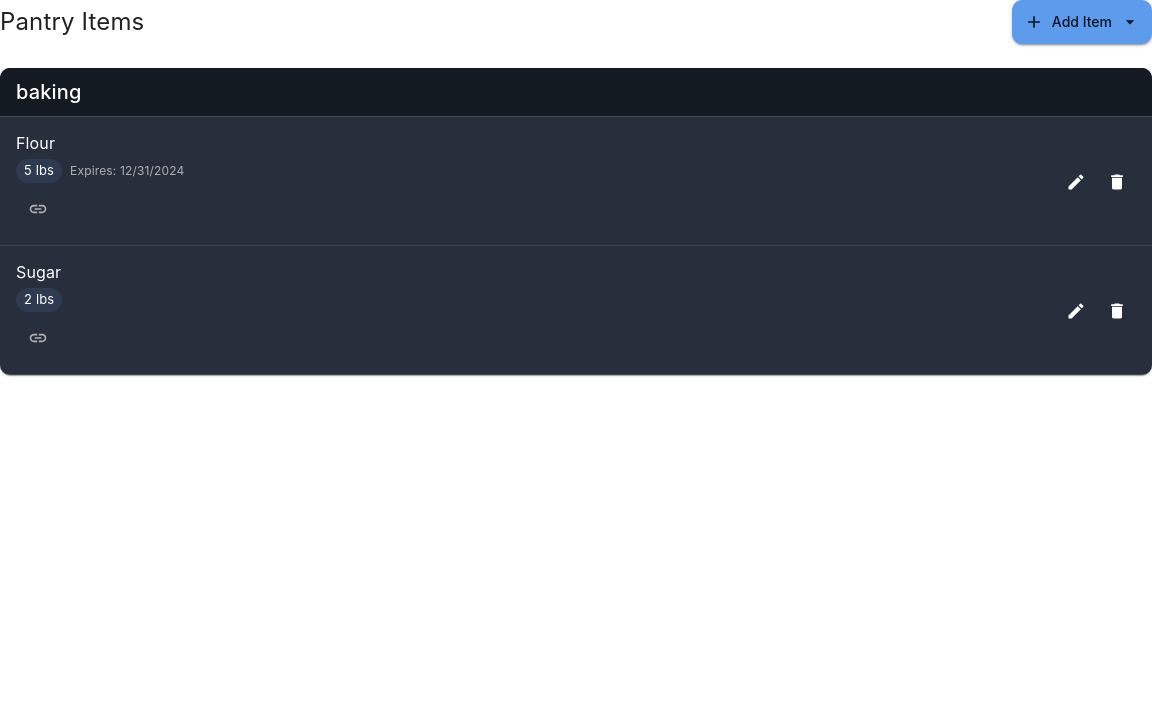
Test: PantryManager Component › Add Item Dialog › should close dialog when cancel is clicked
Note: Open dialog
Click the button "Add Item". click: x=1082, y=22
box: [1012,0,1151,44]
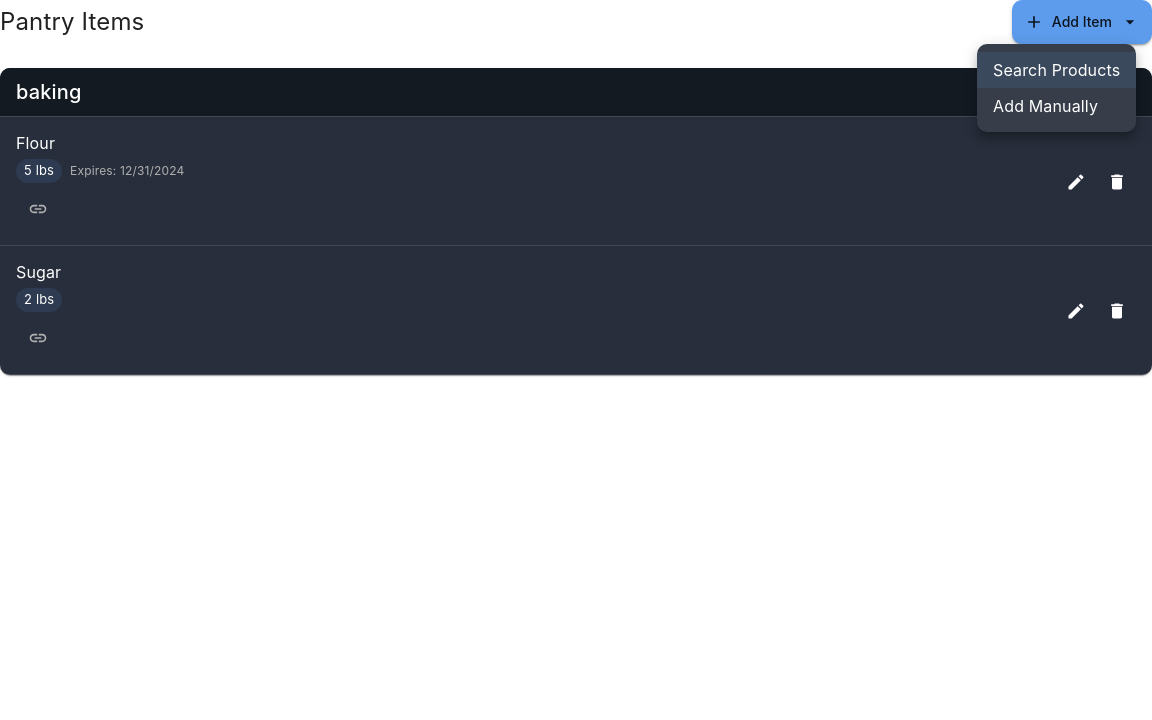
Note: Click "Add Manually" menu item
Click the menu item with test id "pantry-add-manual-menu-item". click: x=1046, y=106
box: [993,96,1098,116]
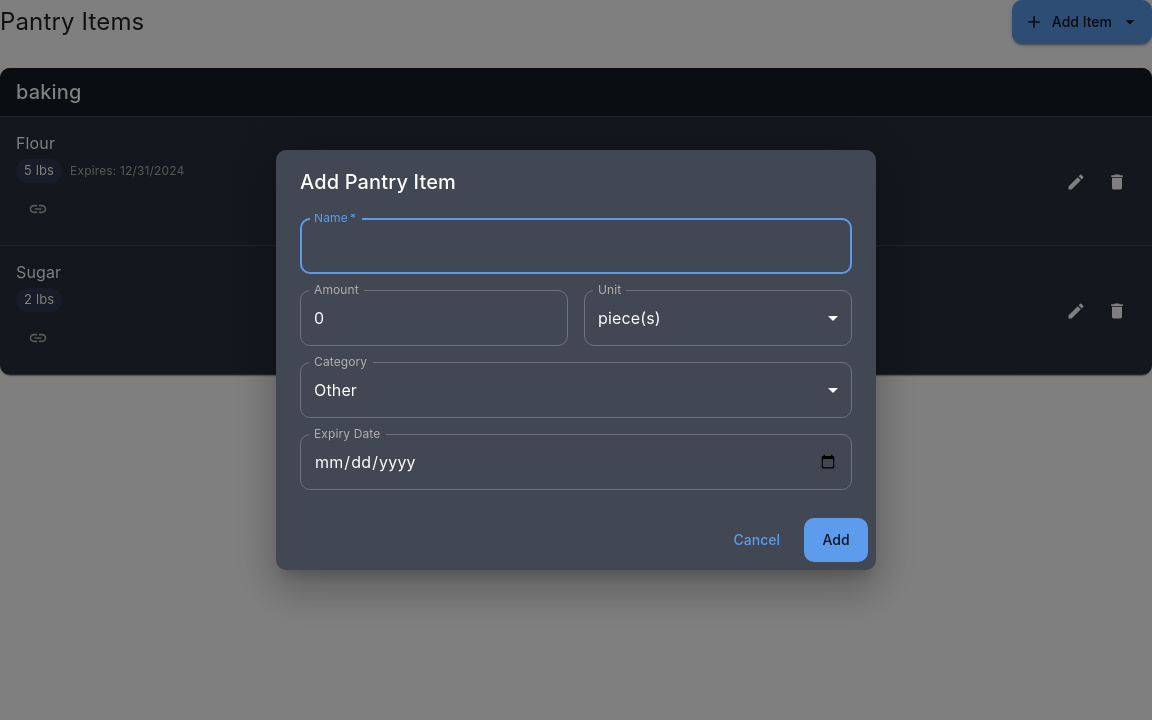
Check: the heading "Add Pantry Item" is shown, box [300,170,456,194]
Note: Close dialog
Click the button with test id "pantry-item-cancel-button". click: x=757, y=540
box: [718,518,796,562]
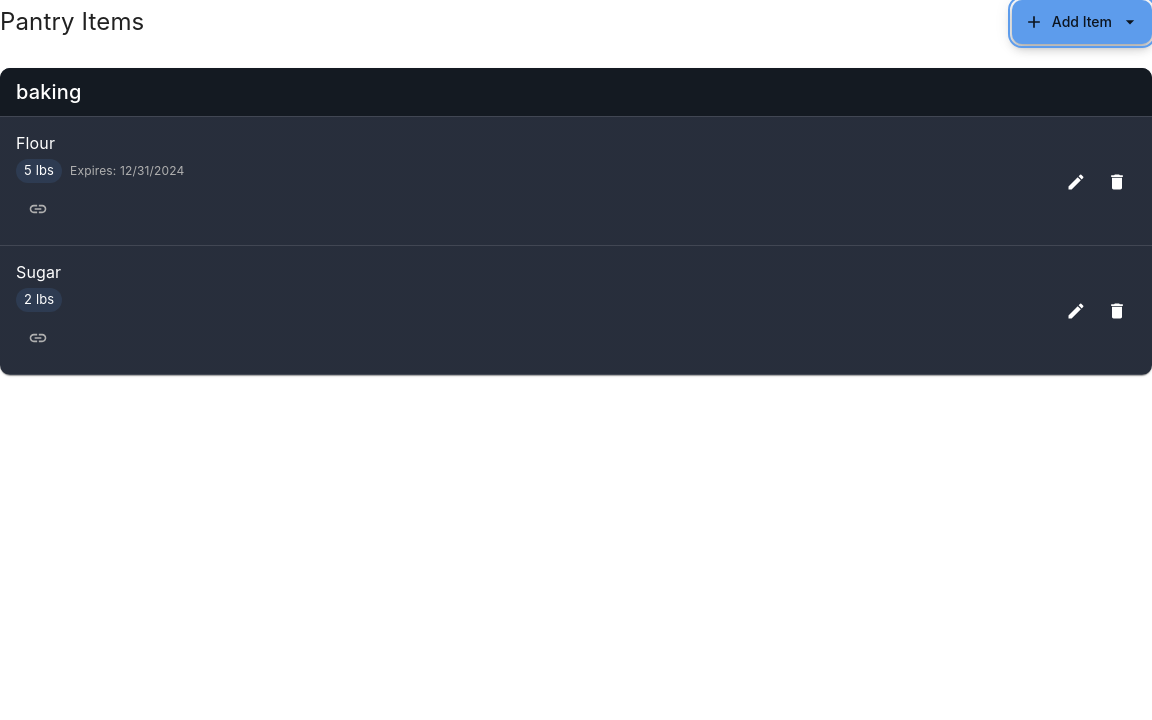
Check: the heading "Add Pantry Item" is gone
